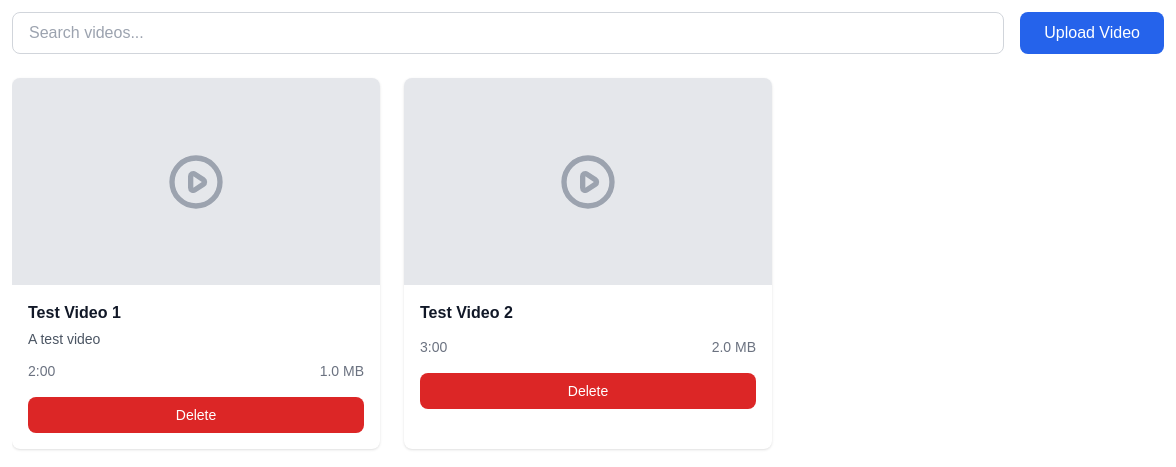
VideoLibrary Component › should delete video when delete button is clicked and confirmed
The width and height of the screenshot is (1176, 467).
Click the button "Delete" below "2:00" at (196,415), box [28,397,364,433]
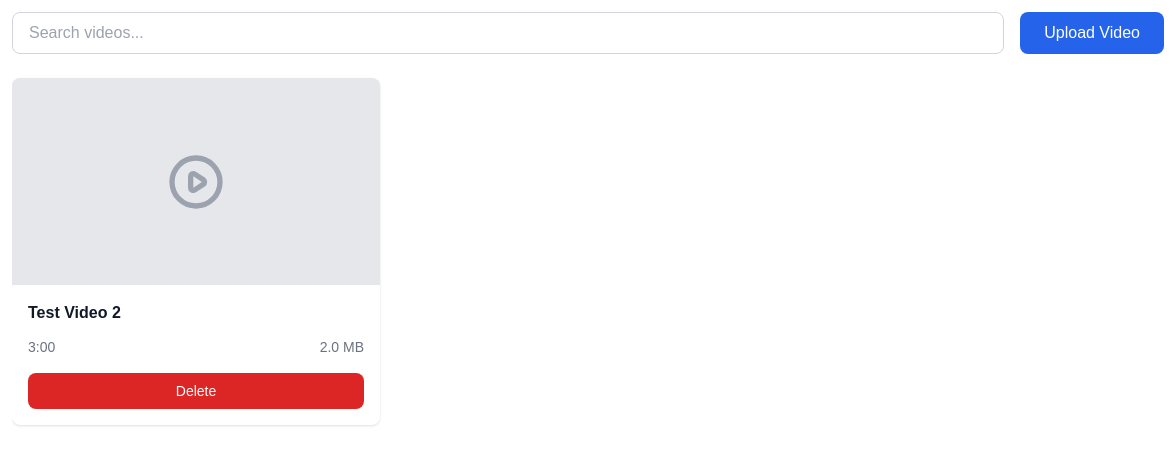
Expected: the heading "Test Video 2" is shown, [28,304,121,321]
Result: the heading "Test Video 1" is gone
